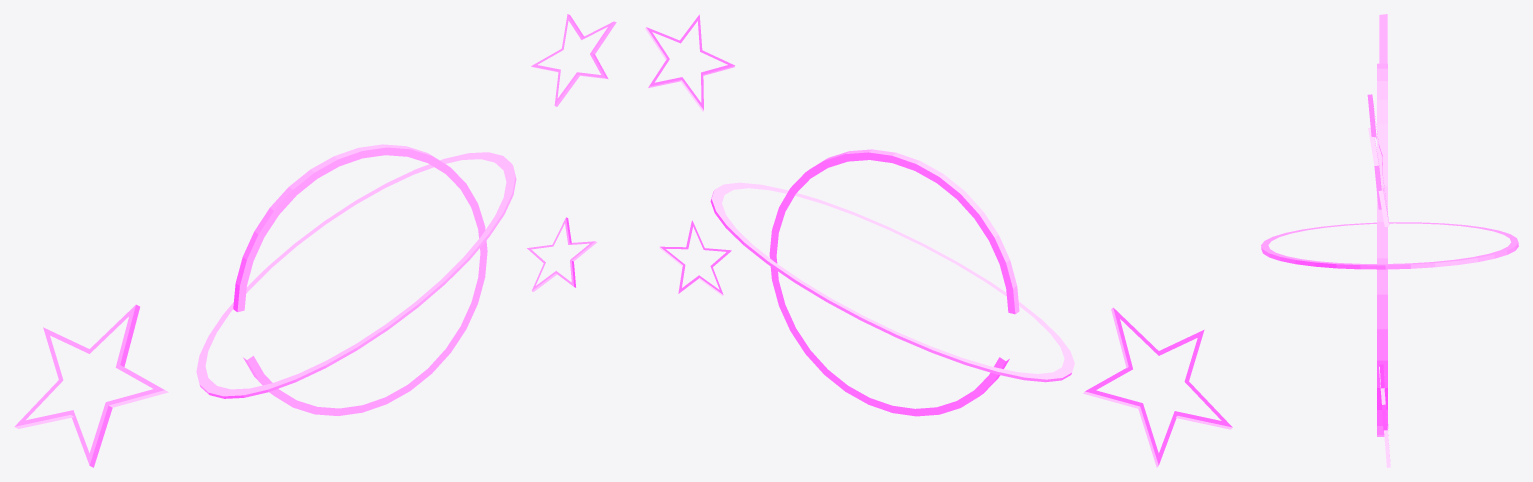
Rendered from cinema.glb.
3 views of the same model, side by side, from view 1: azimuth 30°, elevation 25°; view 2: azimuth 150°, elevation 25°; view 3: azimuth 270°, elevation 25° (orthographic). The views are drawn at different scales.
Visible parts, largest first — view 1: Cosmos.004, Cosmos, Cosmos.003, Cosmos.001, Cosmos.002; view 2: Cosmos.004, Cosmos, Cosmos.003, Cosmos.001, Cosmos.002; view 3: Cosmos.004, Cosmos, Cosmos.001, Cosmos.002, Cosmos.003.
Boxes of the visible parts, bbox=[...] form: Cosmos.004: bbox=[233, 144, 487, 415]; Cosmos: bbox=[196, 152, 516, 398]; Cosmos.003: bbox=[14, 304, 168, 467]; Cosmos.001: bbox=[531, 14, 616, 106]; Cosmos.002: bbox=[527, 217, 597, 291]; Cosmos.004: bbox=[769, 149, 1019, 416]; Cosmos: bbox=[710, 182, 1074, 382]; Cosmos.003: bbox=[1083, 307, 1232, 467]; Cosmos.001: bbox=[645, 14, 734, 111]; Cosmos.002: bbox=[659, 220, 731, 295]; Cosmos.004: bbox=[1377, 63, 1387, 436]; Cosmos: bbox=[1261, 222, 1518, 269]; Cosmos.001: bbox=[1367, 94, 1389, 226]; Cosmos.002: bbox=[1379, 364, 1390, 467]; Cosmos.003: bbox=[1379, 14, 1387, 63].
Size of the model in its own units: 7.56 by 4.23 by 2.18.
